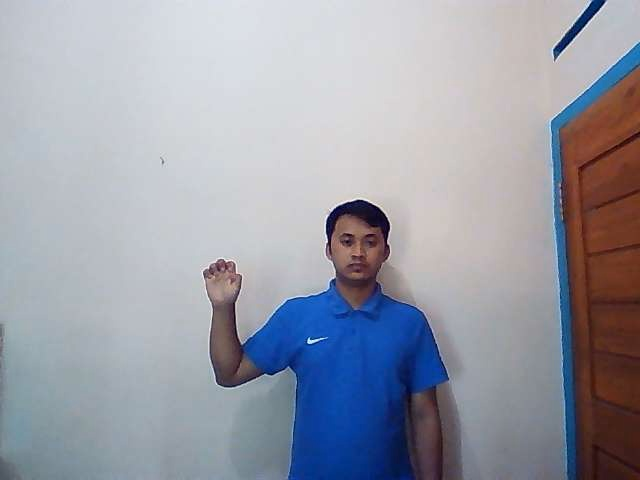E: (202, 258, 243, 308)
